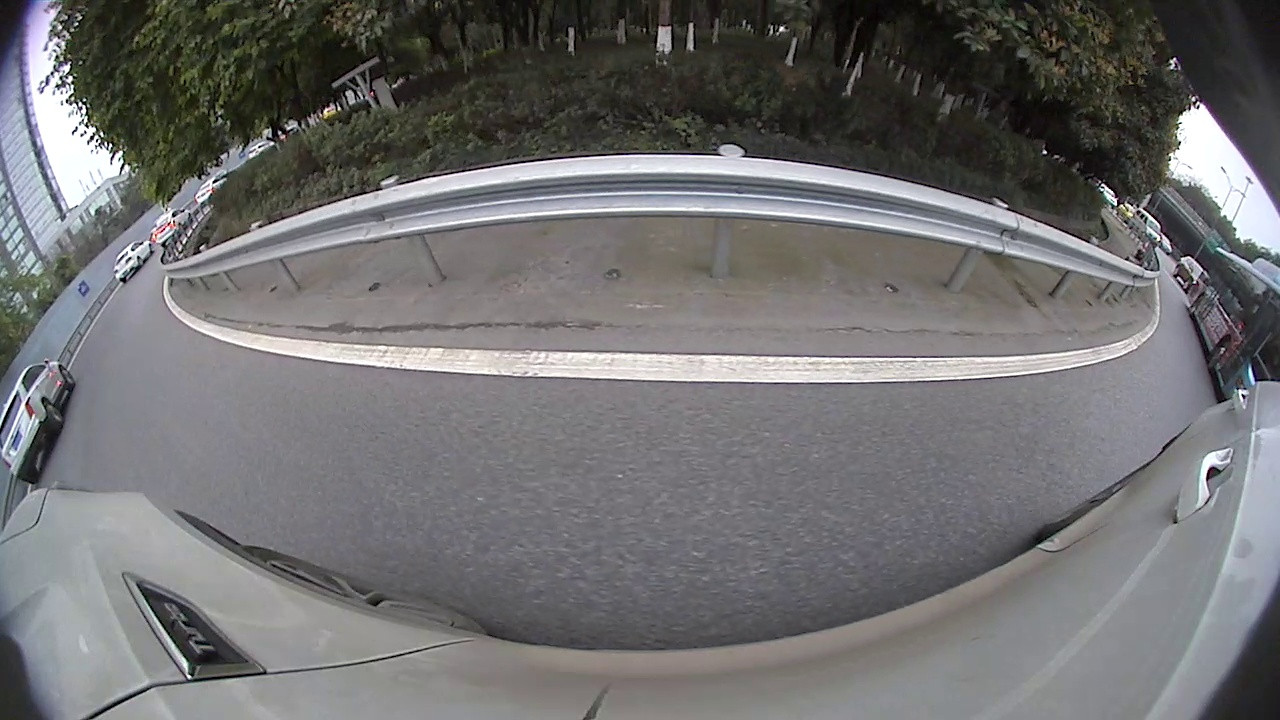bus: (1187, 244, 1278, 400)
car: (3, 349, 79, 492), (110, 233, 152, 286), (151, 201, 196, 248), (1127, 203, 1166, 247), (1169, 253, 1207, 292)
front: (1205, 336, 1232, 370), (58, 368, 78, 388)
rear: (44, 401, 66, 425)
